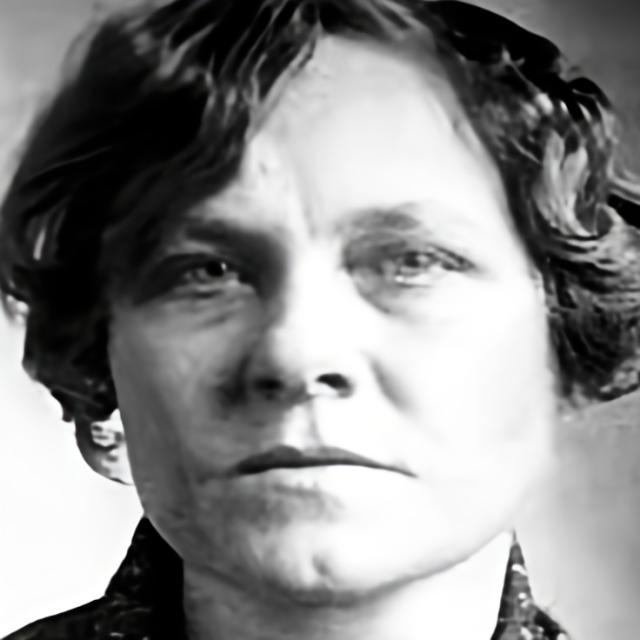neutral: (103, 22, 556, 612)
